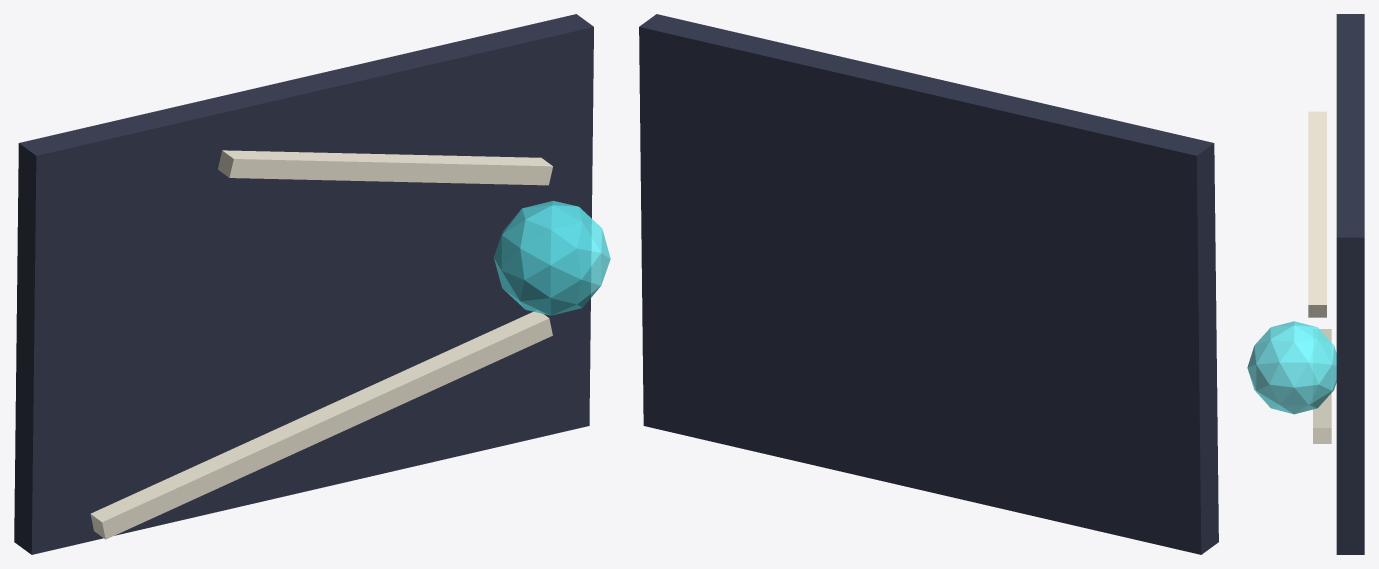
The model's file is 02_world_prop_polish.glb.
The picture shows the model from 3 angles, left to right: view 1: azimuth 30°, elevation 25°; view 2: azimuth 150°, elevation 25°; view 3: azimuth 270°, elevation 25°; orthographic projection. The views are drawn at different scales.
Parts seen in each view (by area): view 1: object_overlay_plate, edge_wear_a, glow_socket, edge_wear_b; view 2: object_overlay_plate; view 3: object_overlay_plate, glow_socket, edge_wear_b, edge_wear_a.
Part boxes in pixels (box(x1,y1,x2,y2)): object_overlay_plate: box(14, 14, 593, 554); edge_wear_a: box(90, 310, 552, 539); glow_socket: box(493, 200, 610, 315); edge_wear_b: box(218, 150, 552, 185); object_overlay_plate: box(639, 14, 1218, 554); object_overlay_plate: box(1336, 14, 1364, 554); glow_socket: box(1247, 321, 1336, 414); edge_wear_b: box(1308, 111, 1326, 317); edge_wear_a: box(1313, 329, 1331, 443).
Bounding box in the file's own units: 1.11 × 0.7632 × 0.25.
